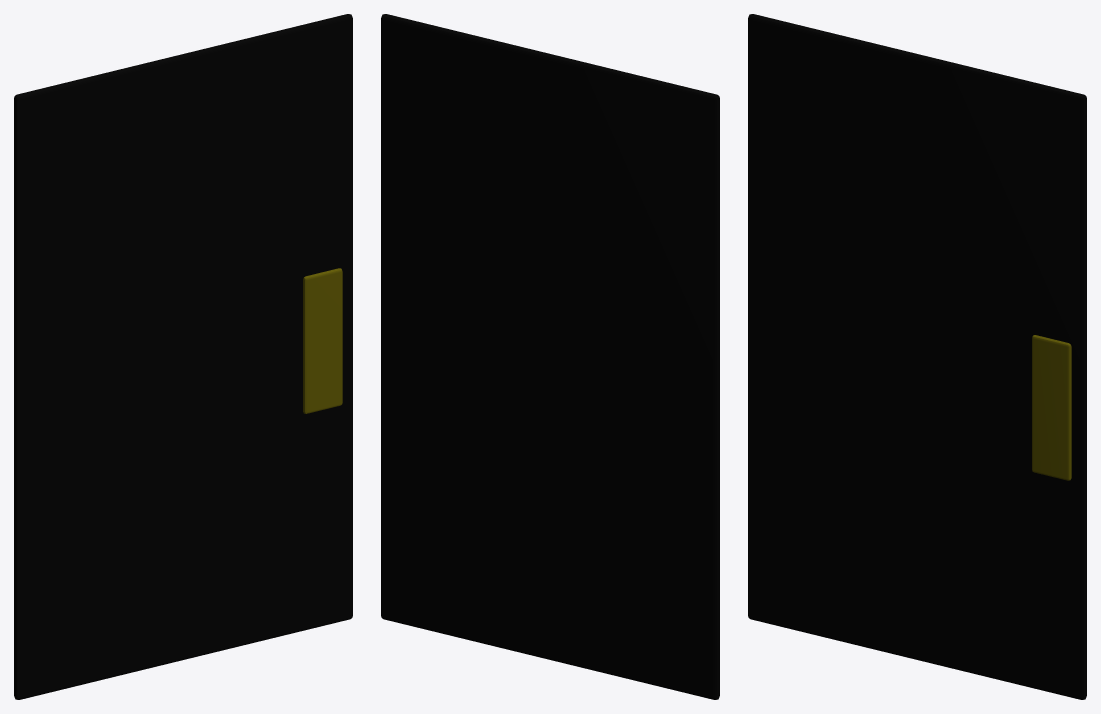
Rendered from door.fbx.
3 renders of one model, left to right at view 1: azimuth 30°, elevation 25°; view 2: azimuth 150°, elevation 25°; view 3: azimuth 330°, elevation 25°, orthographic.
Visible parts, largest first — view 1: pCube3; view 2: pCube3; view 3: pCube3.
Boxes of the visible parts, box(x1,y1,x2,y2) form: pCube3: box(14, 14, 352, 699); pCube3: box(381, 14, 719, 699); pCube3: box(748, 14, 1086, 699).
Size of the model in its own units: 1.47 by 2.51 by 0.0469.
